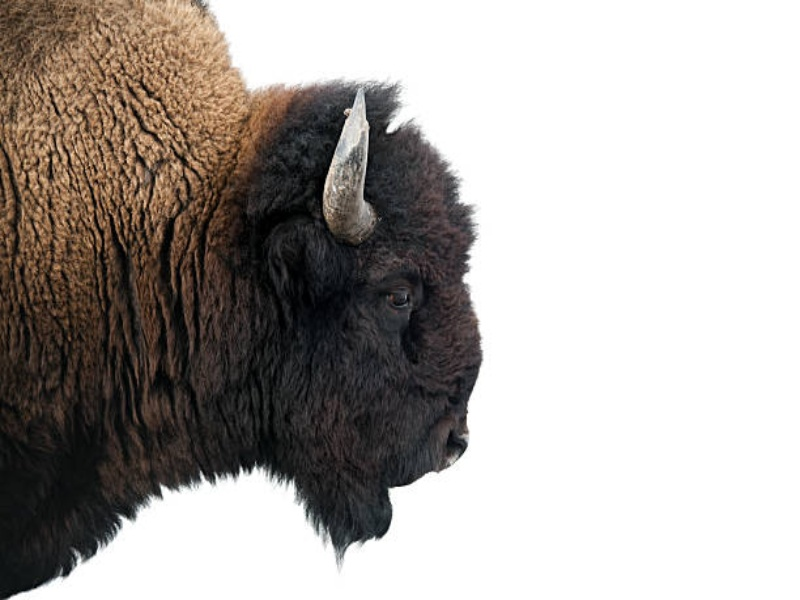buffalo: (23, 29, 493, 575)
